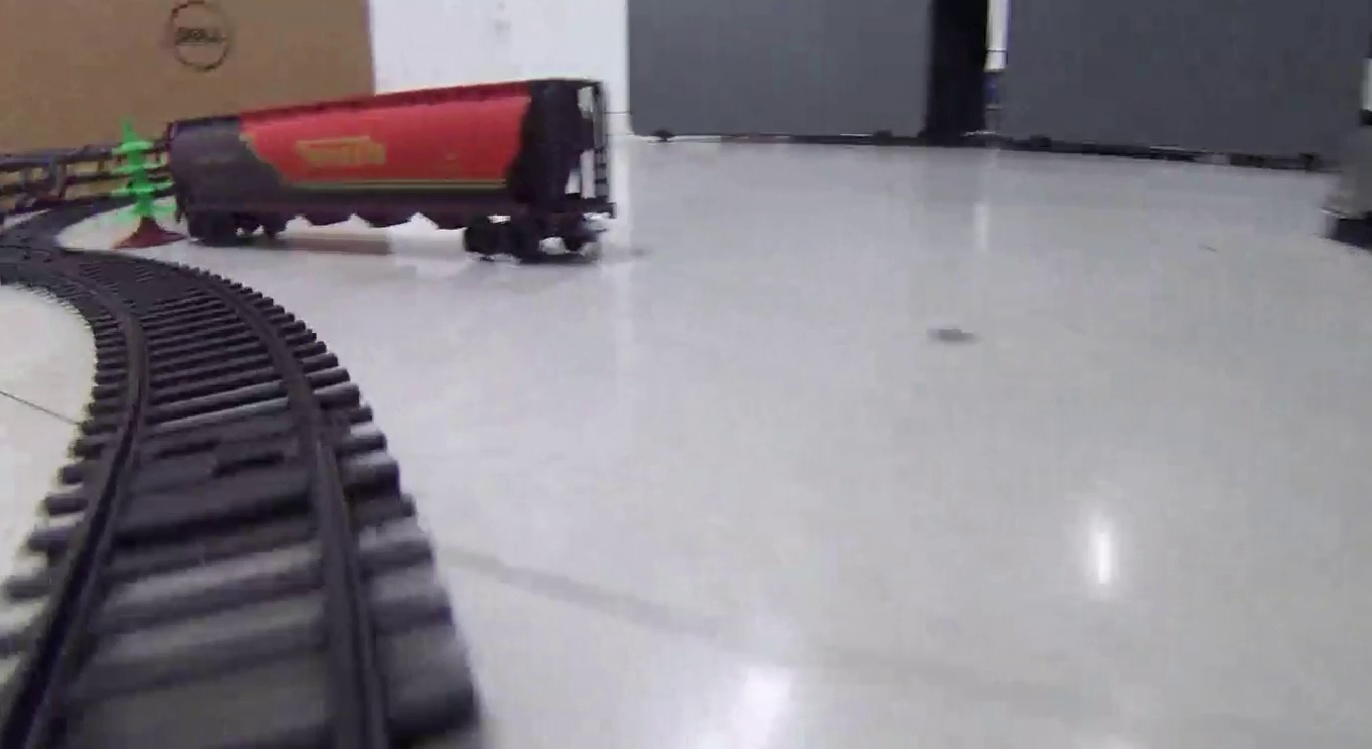tree: (105, 118, 173, 248)
